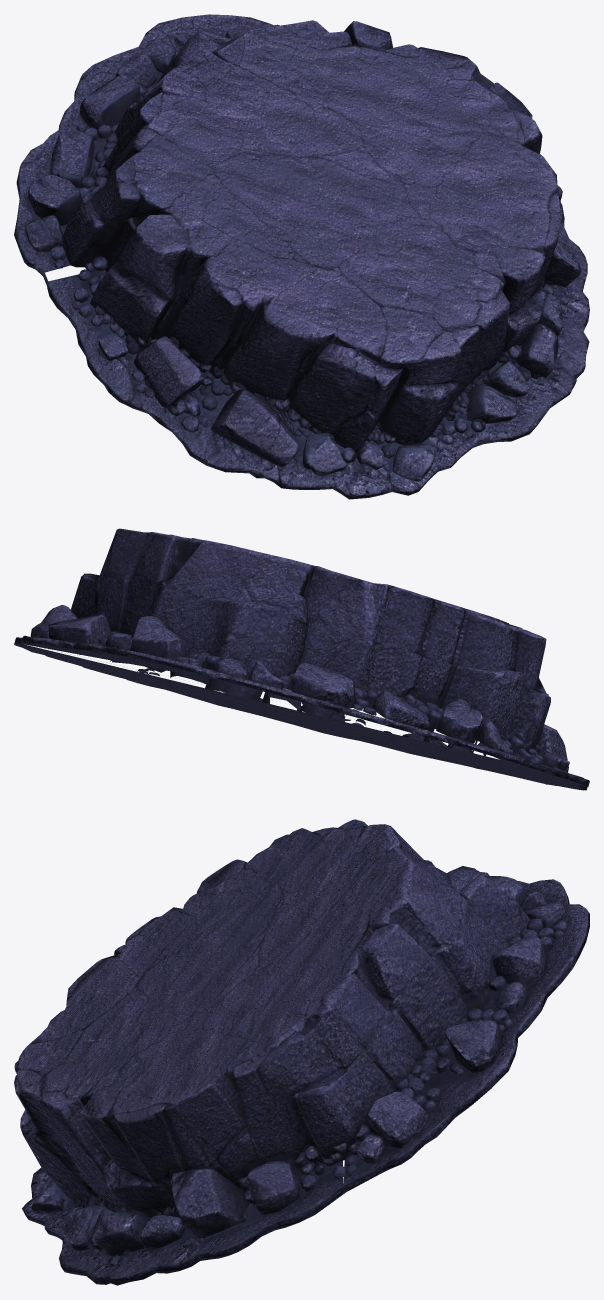
File: 02-memory-silt-base.glb
3 views of the same model, one above another, from view 1: azimuth 30°, elevation 25°; view 2: azimuth 150°, elevation 25°; view 3: azimuth 270°, elevation 25° (orthographic). The views are drawn at different scales.
Visible parts, largest first — view 1: cd01dc15_2808_4ed2_b4f8_35af9306795b; view 2: cd01dc15_2808_4ed2_b4f8_35af9306795b; view 3: cd01dc15_2808_4ed2_b4f8_35af9306795b.
Part boxes in pixels (bbox=[...]): cd01dc15_2808_4ed2_b4f8_35af9306795b: bbox=[14, 14, 589, 499]; cd01dc15_2808_4ed2_b4f8_35af9306795b: bbox=[14, 528, 589, 790]; cd01dc15_2808_4ed2_b4f8_35af9306795b: bbox=[14, 819, 589, 1285].
Size of the model in its own units: 0.9995 by 0.6333 by 0.9106.
Materials: 1 (1 with a texture image).
